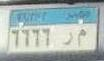6: (42, 28, 52, 45), (22, 29, 31, 47), (12, 29, 20, 47), (33, 29, 41, 46)
meem: (75, 29, 87, 47)
raa: (64, 32, 74, 45)
